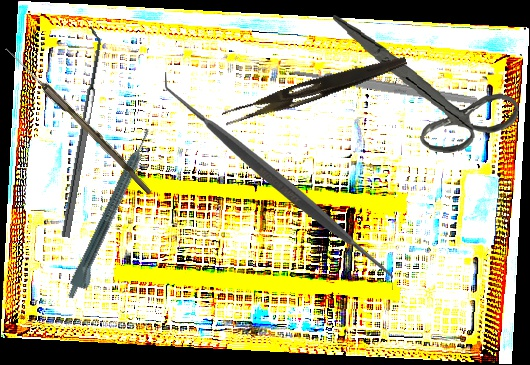Dressing Forceps: (221, 46, 409, 133)
Handpiece: (63, 126, 162, 305)
Iris Scissors: (323, 14, 525, 158)
Scalpel Handle: (291, 66, 479, 107)
Spatula Surgical: (165, 72, 393, 290), (53, 26, 107, 238)
Surgical Spoon: (2, 45, 155, 195)
